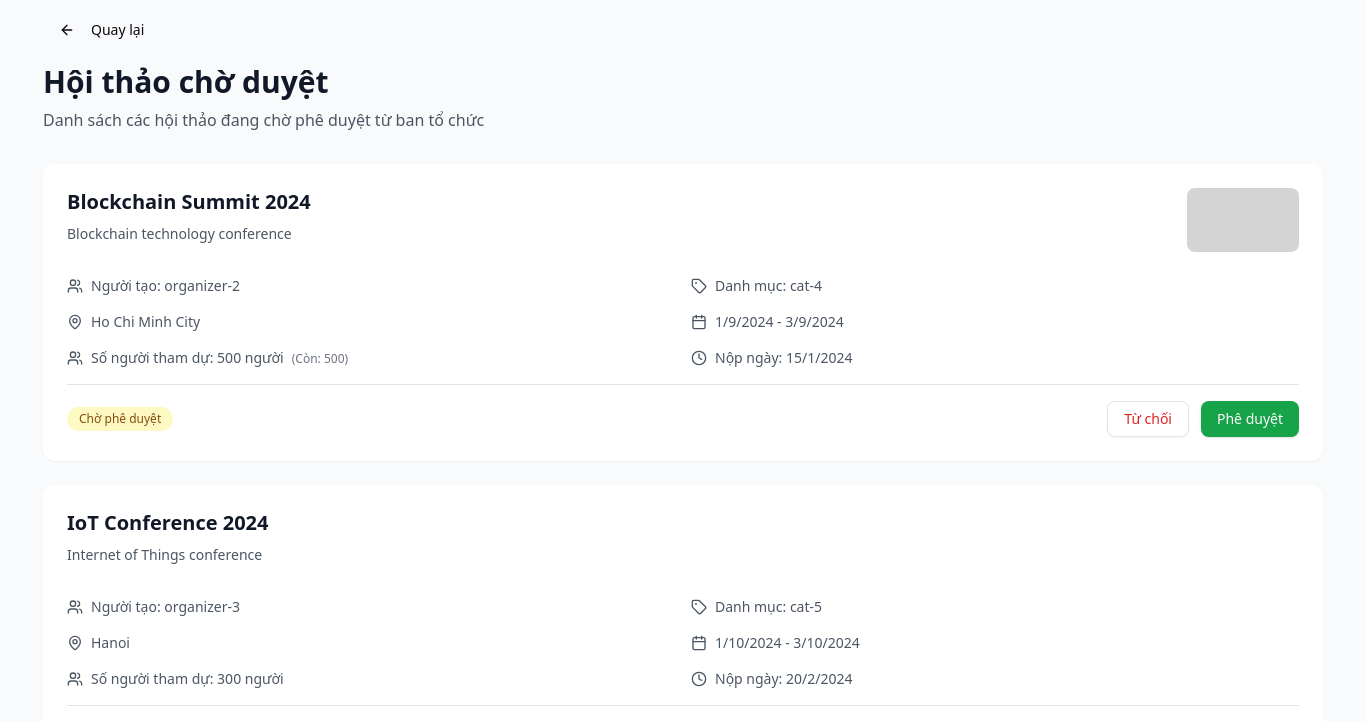
Test case: PendingConference Component › opens reject dialog when reject button is clicked
The width and height of the screenshot is (1366, 721).
Click the button "Từ chối" below "15/1/2024".
click(1148, 419)  # box [1107,401,1189,437]
(page scrolled)
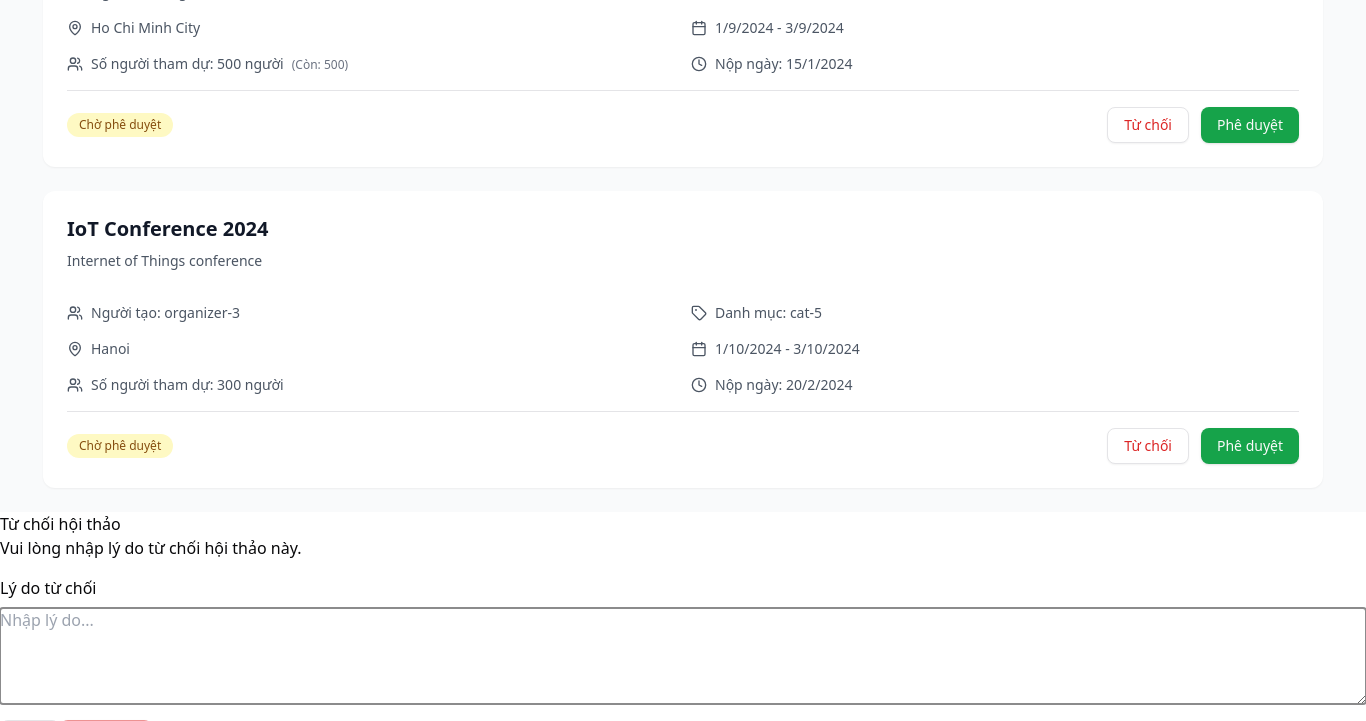
Now the heading "Từ chối hội thảo" is shown, box [0,513,121,535]
